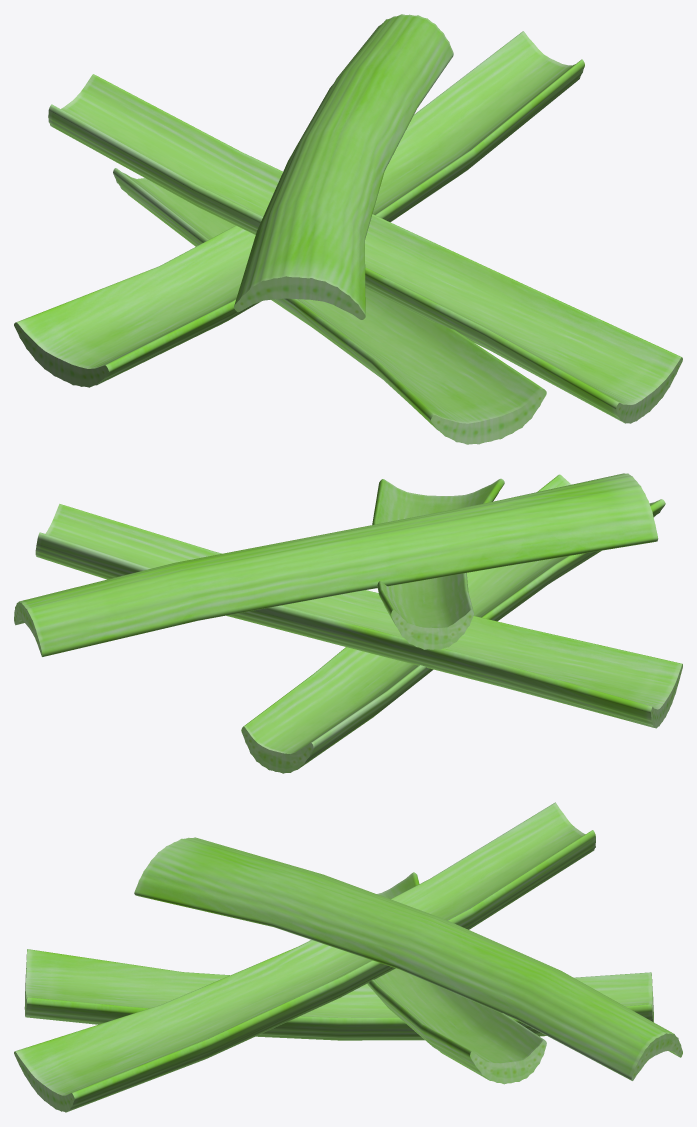
File: apio.glb
3 renders of one model, top to bottom at view 1: azimuth 30°, elevation 25°; view 2: azimuth 150°, elevation 25°; view 3: azimuth 270°, elevation 25°, orthographic. The views are drawn at different scales.
Visible parts, largest first — view 1: Line002, Line004, Line005, Line001; view 2: Line005, Line004, Line001, Line002; view 3: Line005, Line002, Line001, Line004.
Part boxes in pixels (box(x1,y1,x2,y2)): Line002: box(48, 74, 682, 423); Line004: box(14, 31, 584, 387); Line005: box(234, 14, 453, 319); Line001: box(113, 168, 546, 444); Line005: box(14, 473, 658, 656); Line004: box(35, 504, 682, 728); Line001: box(241, 474, 665, 773); Line002: box(372, 478, 504, 649); Line005: box(134, 837, 682, 1080); Line002: box(14, 802, 595, 1112); Line001: box(24, 949, 653, 1040); Line004: box(367, 872, 546, 1084).
Bounding box in the file's own units: 801 × 233 × 854.
Materials: 1 (1 with a texture image).
